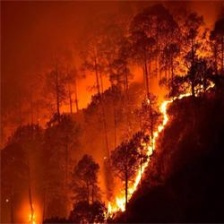fire: (111, 86, 179, 215), (181, 66, 216, 102)
